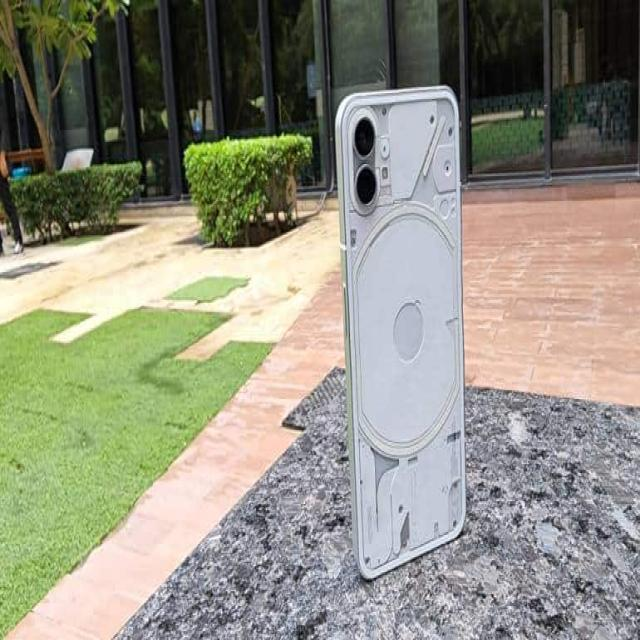mobile_phone: (327, 53, 482, 619)
